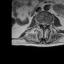CCS_normal: (43, 21, 45, 29)
LFS_stenosis: (47, 22, 49, 26)
LLS_normal: (45, 22, 47, 28)
RFS_stenosis: (40, 21, 41, 26)
RLS_normal: (41, 22, 43, 26)
